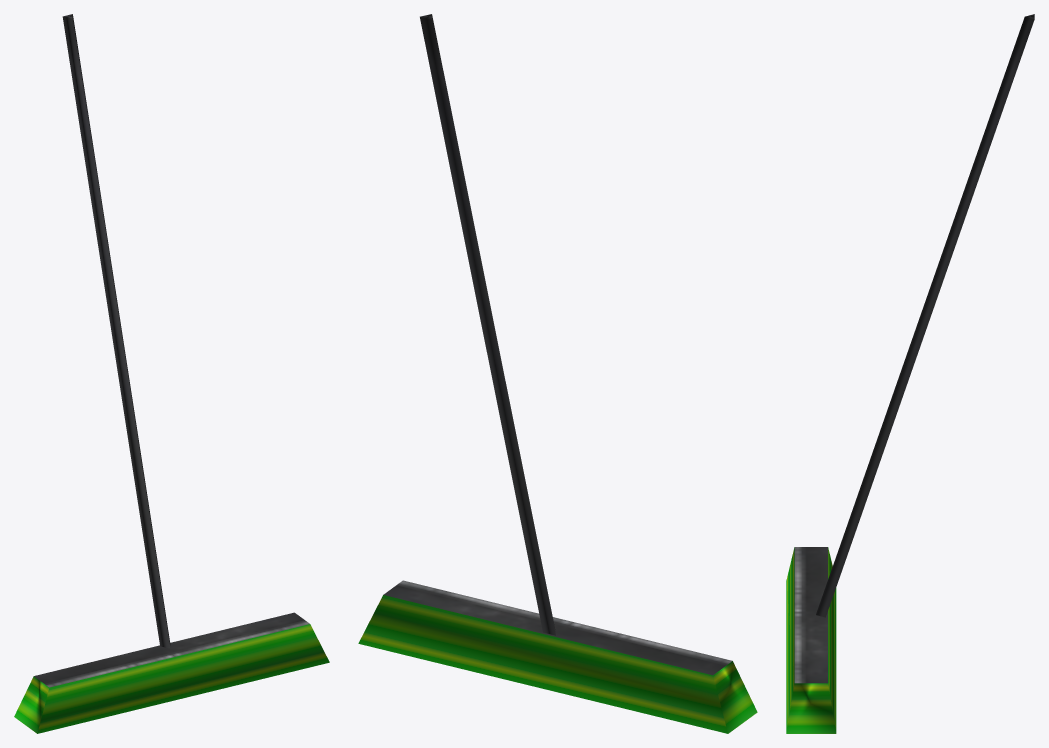
File: Industrial_Broom.fbx
3 views of the same model, side by side, from view 1: azimuth 30°, elevation 25°; view 2: azimuth 150°, elevation 25°; view 3: azimuth 270°, elevation 25° (orthographic). The views are drawn at different scales.
Parts seen in each view (by area): view 1: Industrial_Broom_01; view 2: Industrial_Broom_01; view 3: Industrial_Broom_01.
Boxes of the visible parts, x1,y1,x2,y2 form: Industrial_Broom_01: (14, 14, 329, 733); Industrial_Broom_01: (358, 14, 757, 733); Industrial_Broom_01: (786, 14, 1034, 733).
Bounding box in the file's own units: 0.7447 × 1.45 × 0.511.
